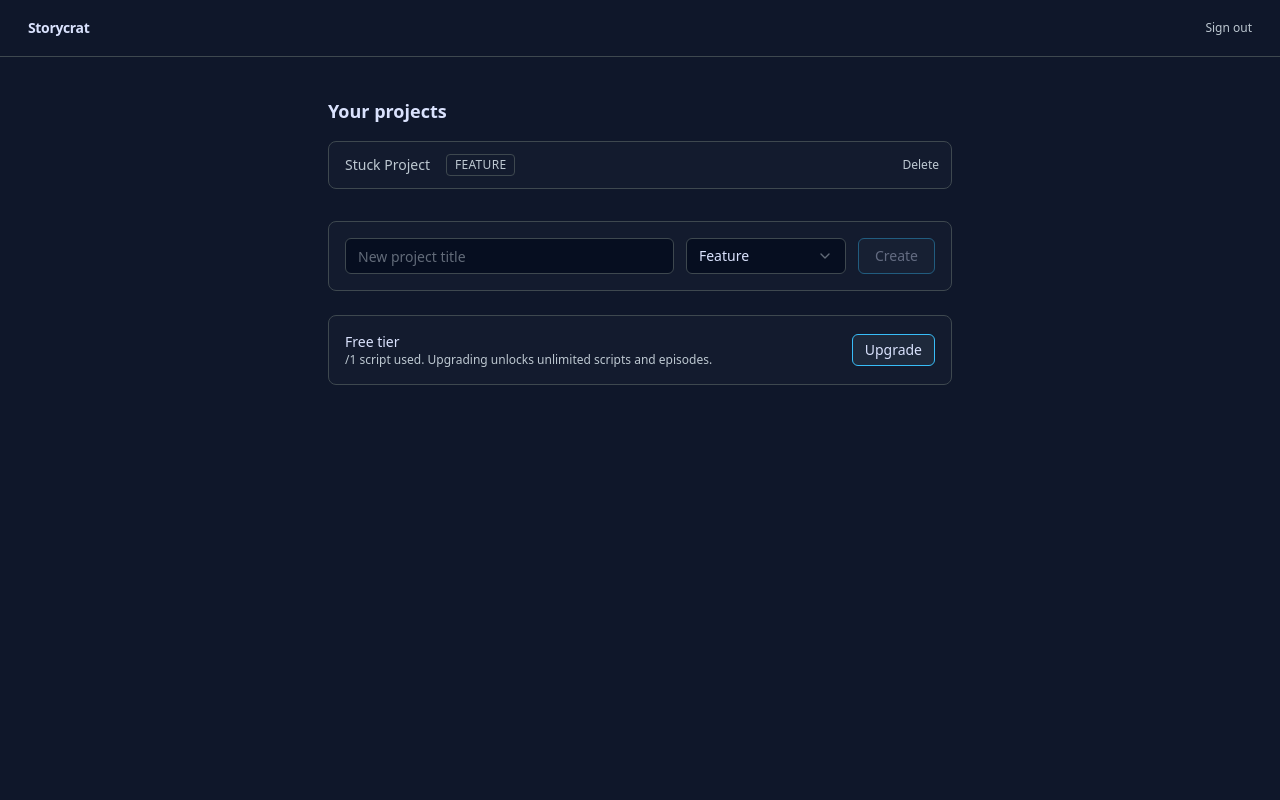
Test: App shell › requires confirmation before deleting a project and removes it after success
The width and height of the screenshot is (1280, 800).
Expected: the button "Stuck Project feature" is shown, [329,142,890,188]
Click the button with aria-label "Delete Stuck Project": [921, 165] box [890,142,951,188]
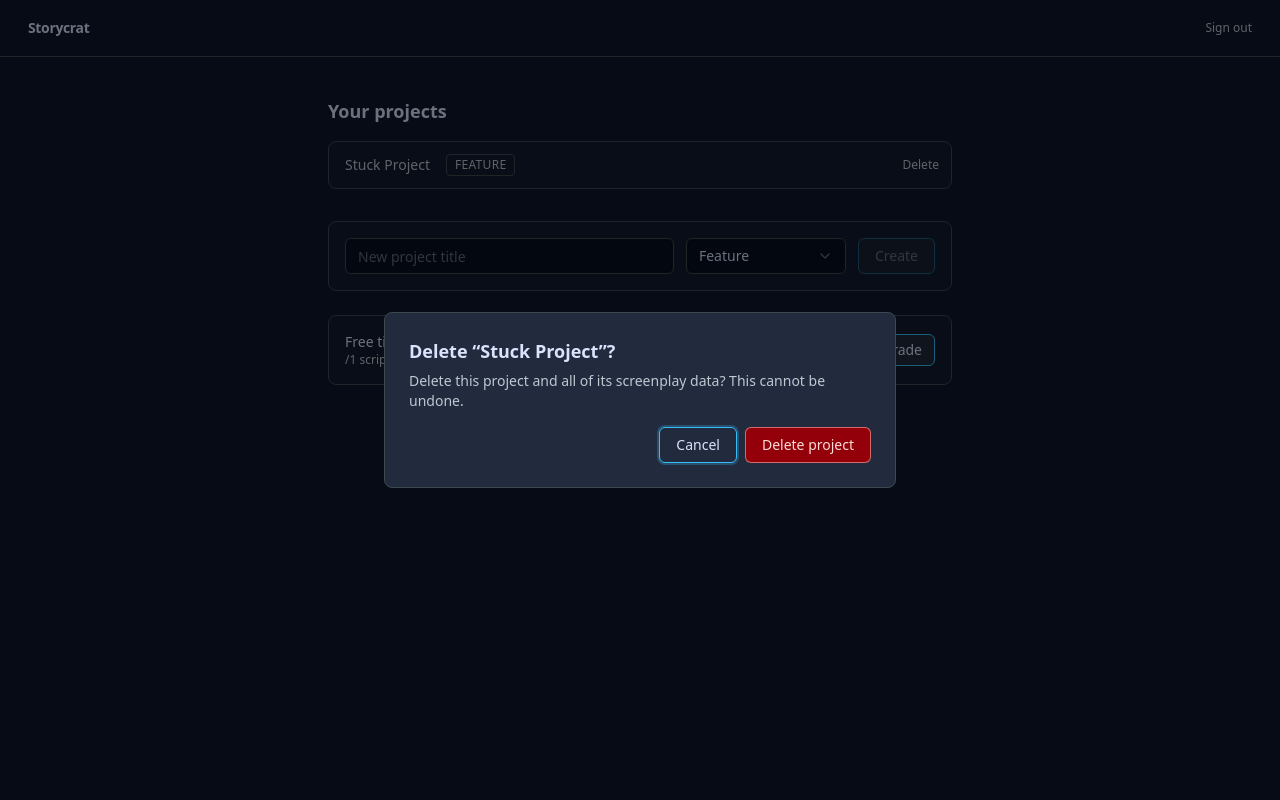
Expected: the text "cannot be undone" is shown, [409,371,825,410]
Click the button "Delete project": [808, 445] box [745,427,871,463]
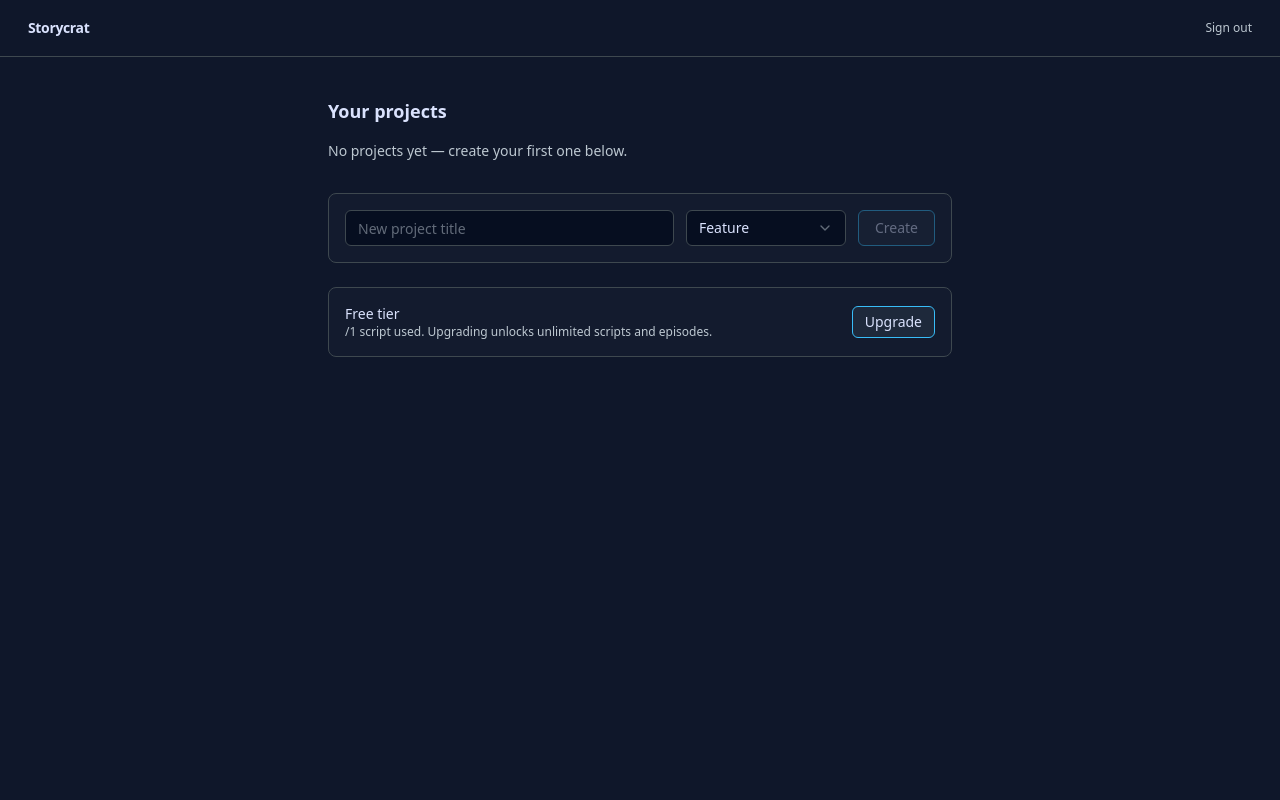
Expected: the button "Stuck Project" is gone
